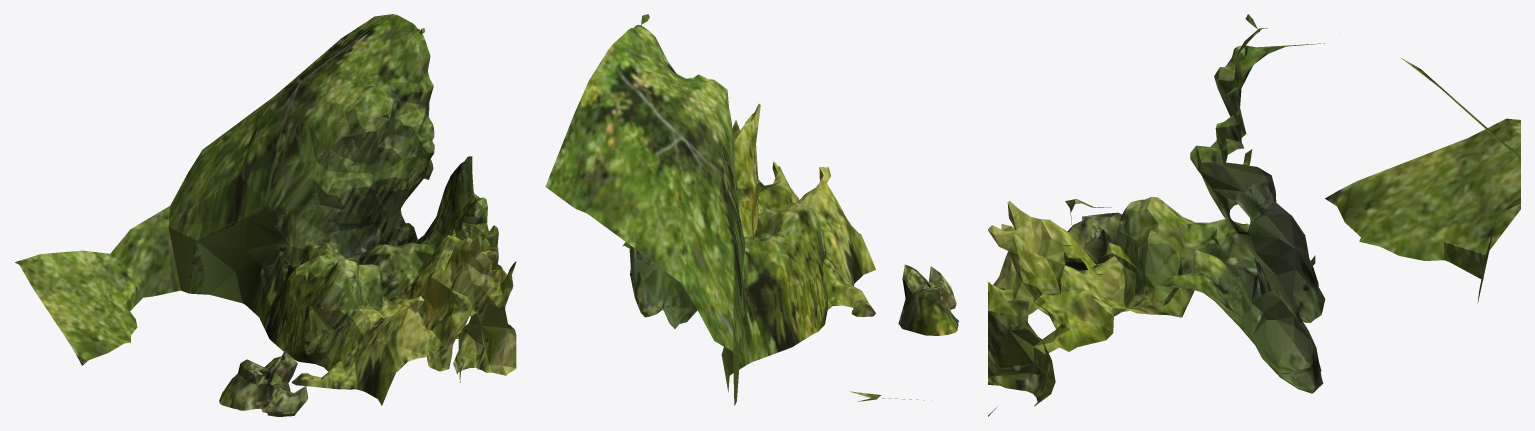
3 renders of one model, left to right at view 1: azimuth 30°, elevation 25°; view 2: azimuth 150°, elevation 25°; view 3: azimuth 270°, elevation 25°, orthographic. The views are drawn at different scales.
Size of the model in its own units: 2.95 by 2.48 by 2.95.
Materials: 4 (4 with a texture image).
